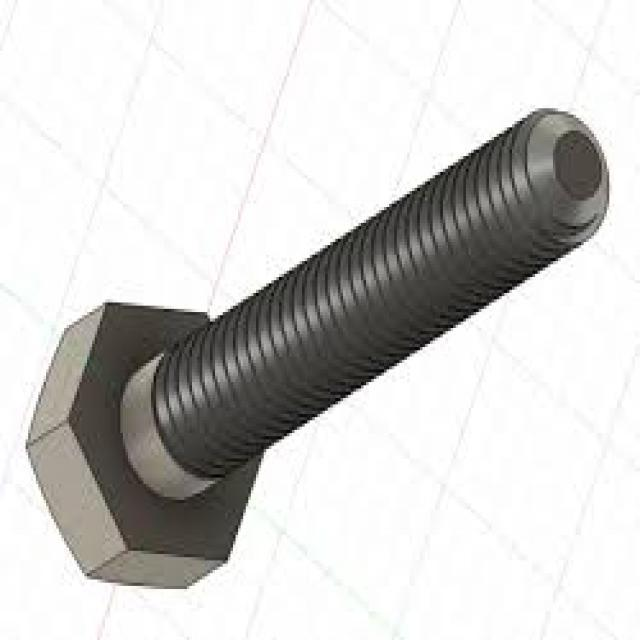bolt: (27, 116, 605, 589)
